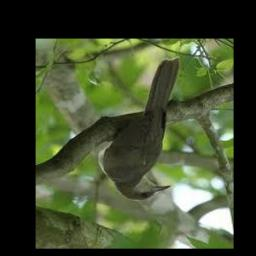Cuckoo: (98, 57, 179, 201)
